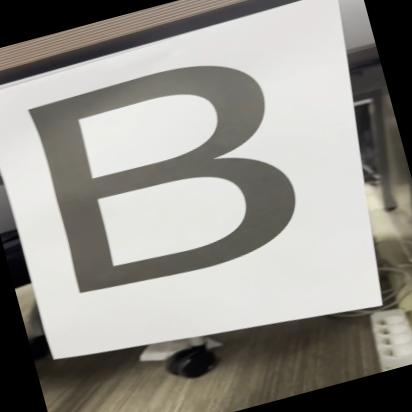seat: (13, 37, 330, 315)
